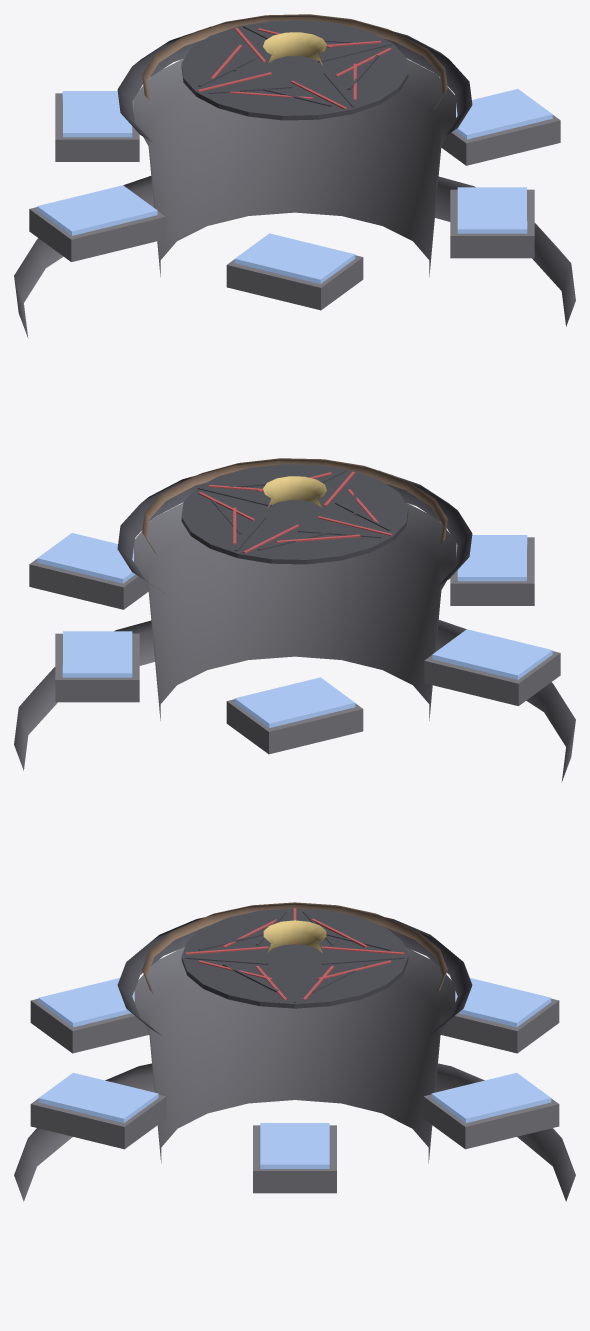
The model's file is casino-floor-and-back-rooms-electronic-roulette-pod-54113211__27015.glb.
3 views of the same model, one above another, from view 1: azimuth 30°, elevation 25°; view 2: azimuth 150°, elevation 25°; view 3: azimuth 270°, elevation 25° (orthographic).
Parts seen in each view (by area): view 1: electronic-roulette-pod; view 2: electronic-roulette-pod; view 3: electronic-roulette-pod.
Boxes of the visible parts, box(x1,y1,x2,y2) form: electronic-roulette-pod: box(14, 14, 575, 338); electronic-roulette-pod: box(14, 458, 575, 782); electronic-roulette-pod: box(14, 902, 575, 1201).
Size of the model in its own units: 2.28 by 1.2 by 2.28.
